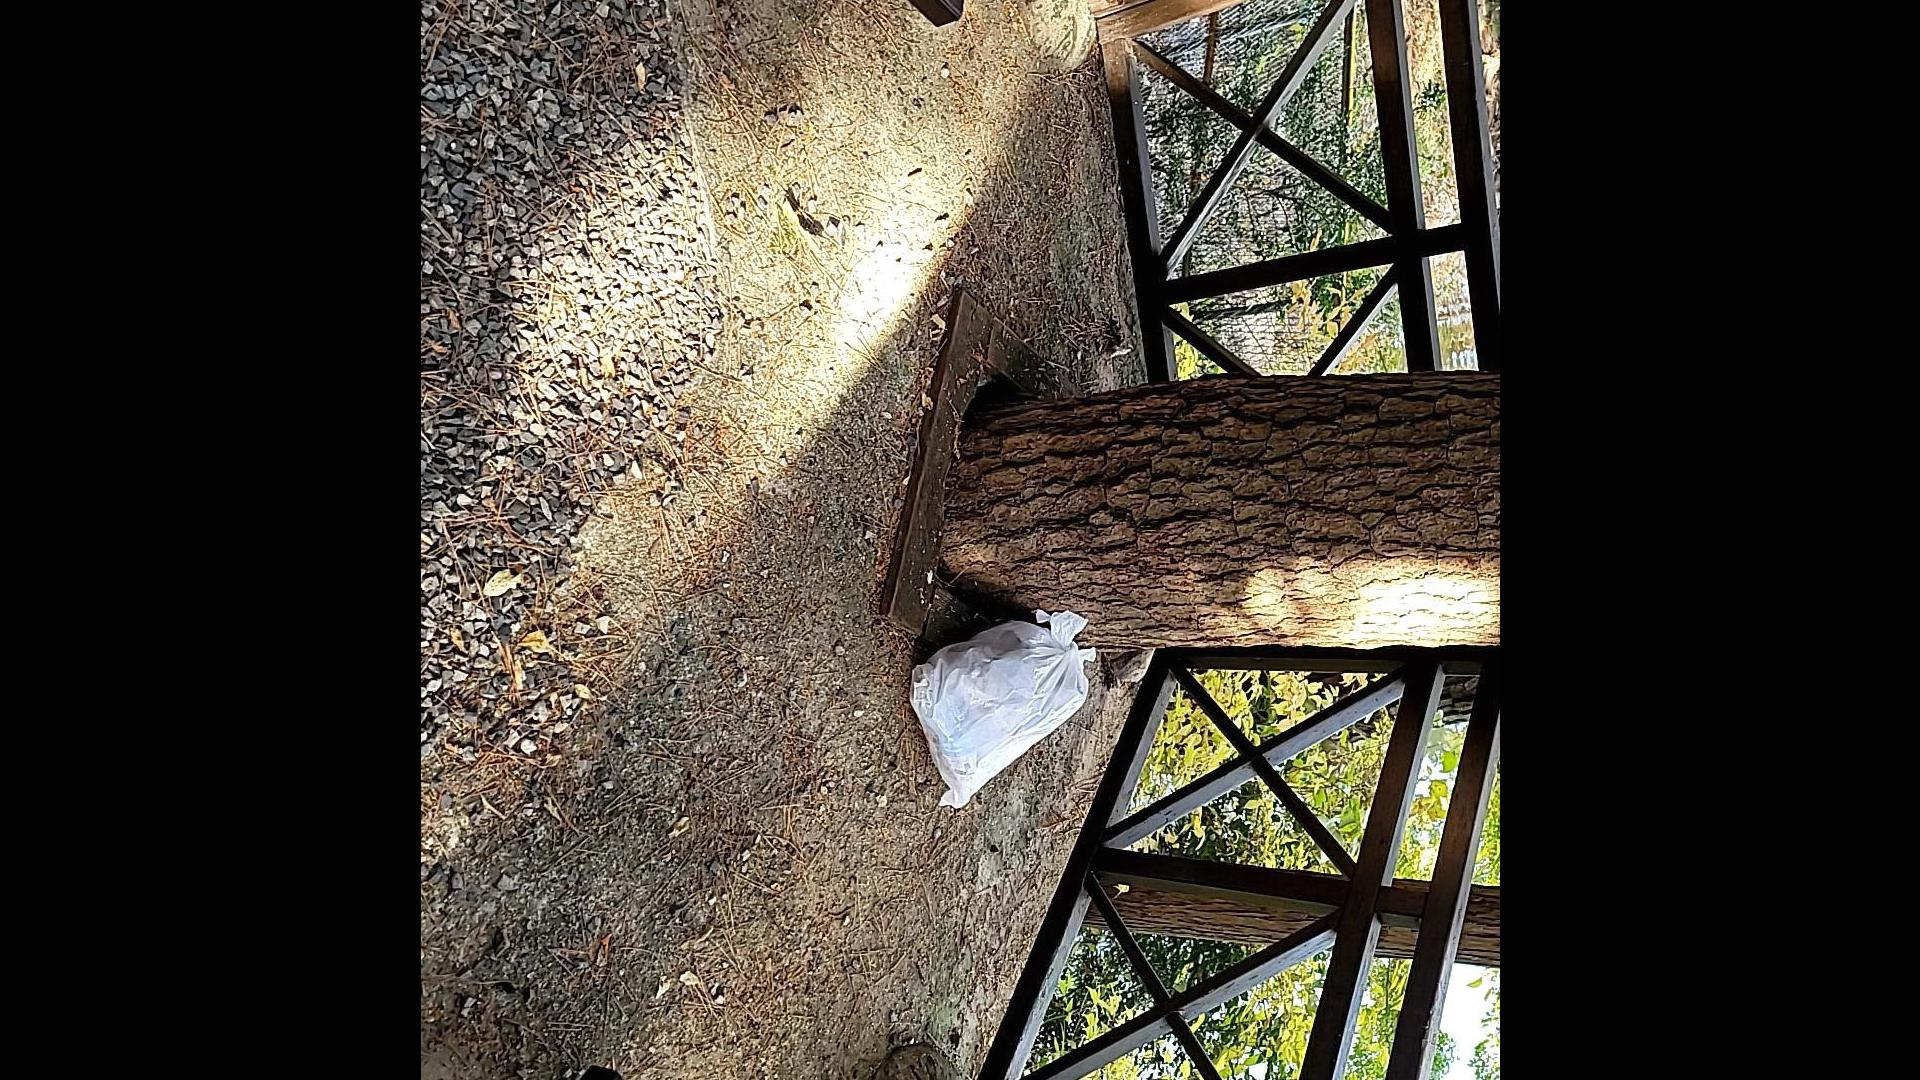white_bag: (903, 593, 1101, 828)
